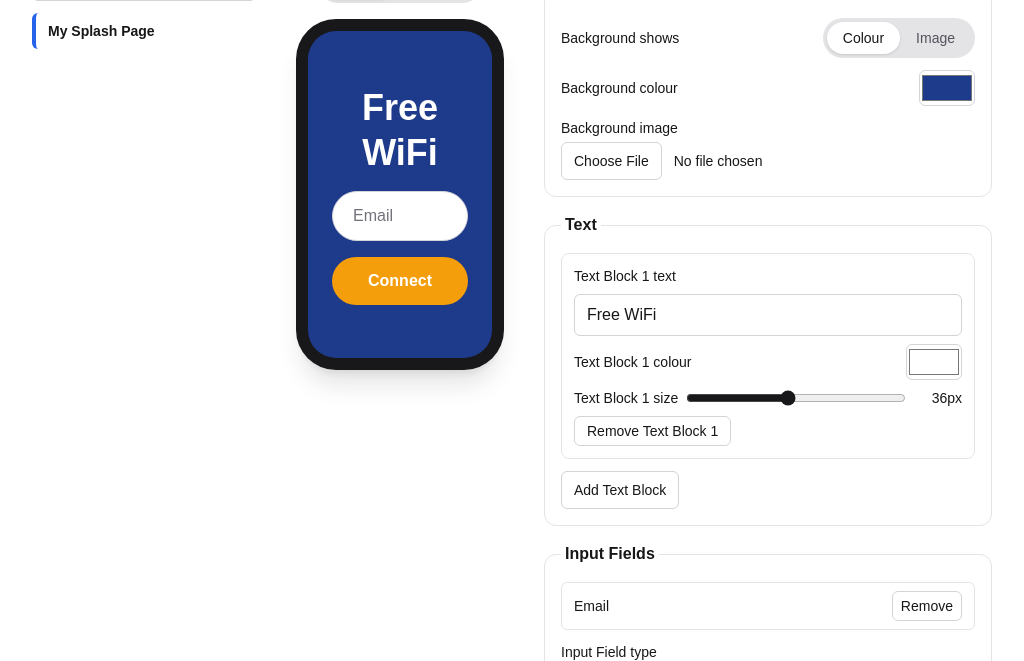
Scenario: Captivator: storage blocked in this browser › when nothing can be saved, the Customer can still edit the Splash Page and isn't told it's saved
The width and height of the screenshot is (1024, 661).
(page scrolled)
Replace the text in the field labelled "Text Block 1 text" with "Welcome to the Café" at (768, 315), box [574, 294, 962, 336]
(page scrolled)
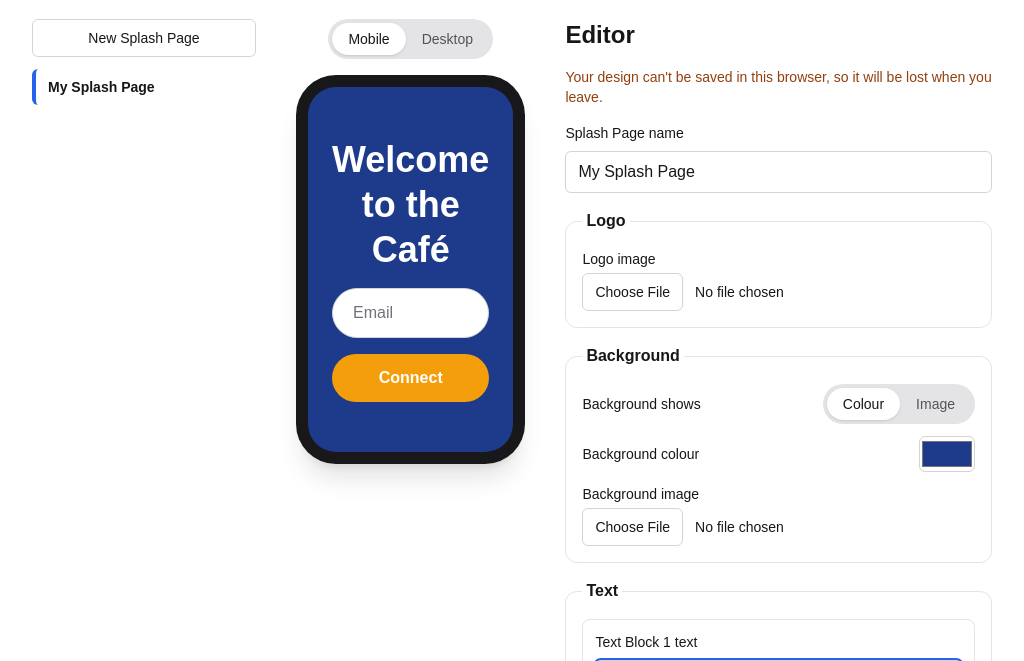
Expected: the text "Your design can't be saved in this browser, so it will be lost when you leave." is shown, [565, 67, 992, 107]
Now the text "Welcome to the Café" is shown, box [332, 137, 489, 272]
